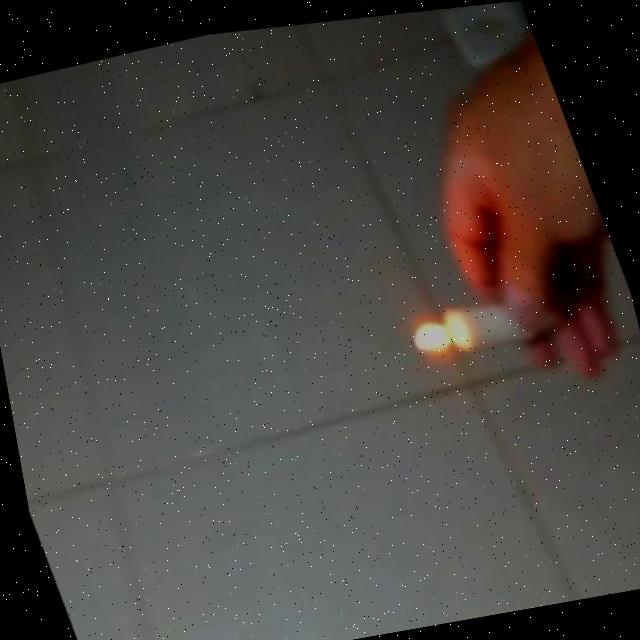fire: (406, 307, 462, 359)
